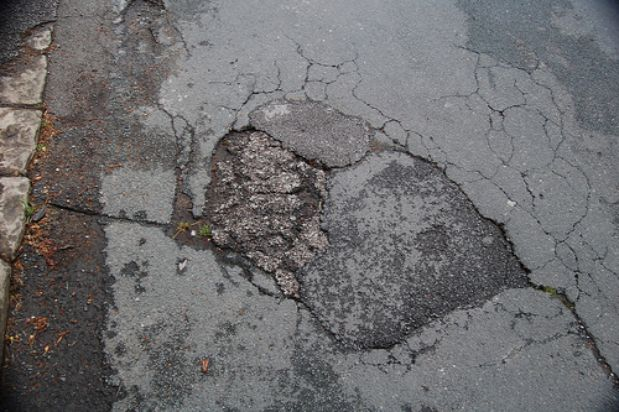pothole: (170, 127, 536, 355)
